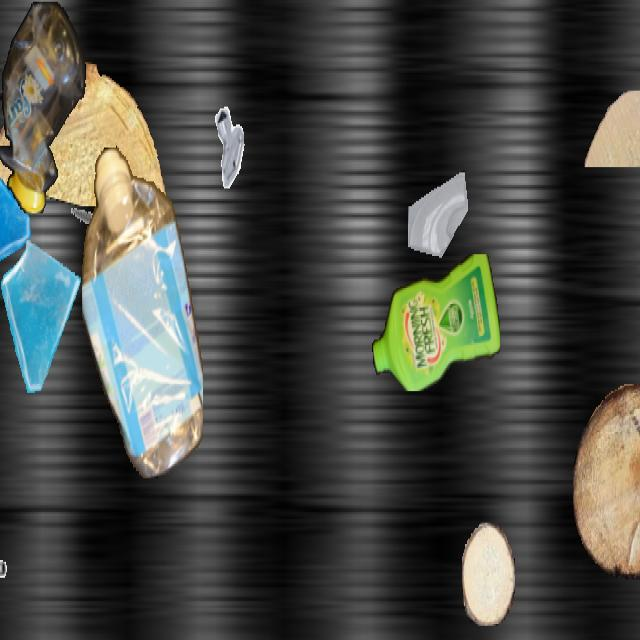glass: (0, 236, 87, 400), (408, 171, 470, 281), (0, 135, 35, 292)
metal: (208, 101, 256, 187), (66, 185, 110, 263), (0, 539, 16, 638), (0, 89, 11, 192), (0, 277, 1, 345)
plastic: (82, 144, 202, 478), (0, 2, 87, 212), (372, 255, 500, 390)
wood: (0, 62, 177, 204), (573, 384, 640, 580), (462, 522, 514, 626), (584, 91, 640, 165)
